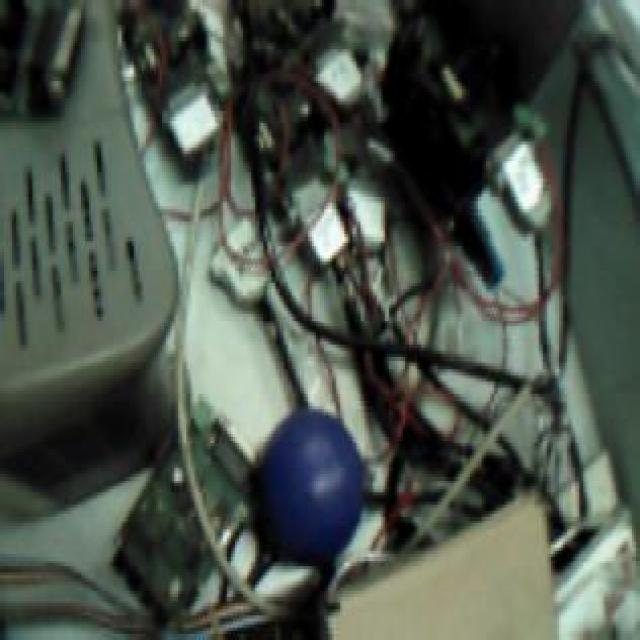BallPurple: (256, 408, 365, 558)
